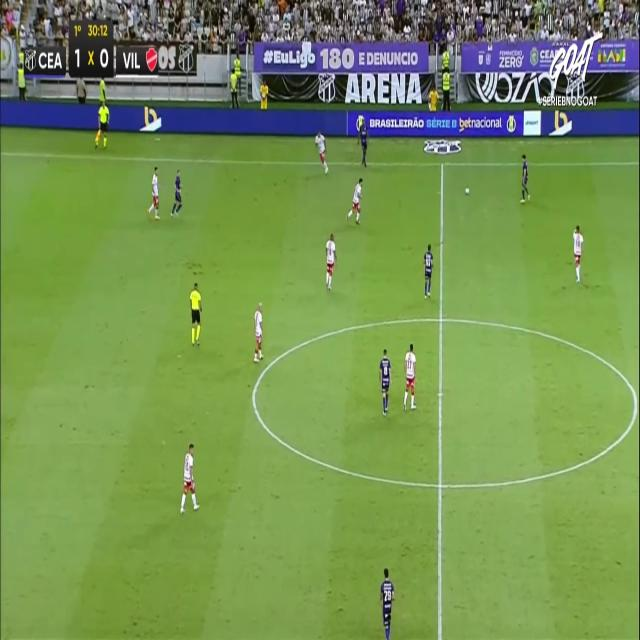ball: (463, 180, 473, 206)
player: (180, 443, 200, 514), (379, 567, 395, 639), (403, 342, 417, 410), (379, 348, 391, 416), (359, 111, 372, 173), (346, 177, 363, 224), (147, 166, 160, 220), (325, 233, 337, 291), (315, 130, 329, 174), (253, 301, 263, 362), (573, 224, 583, 282), (170, 168, 182, 216), (423, 243, 433, 298), (520, 153, 530, 203)
referee: (189, 282, 202, 345), (94, 101, 109, 149)
